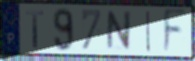7: (80, 8, 102, 53)
9: (51, 6, 75, 53)
F: (162, 8, 188, 57)
I: (145, 9, 151, 54)
N: (106, 10, 133, 52)
T: (25, 9, 46, 49)
